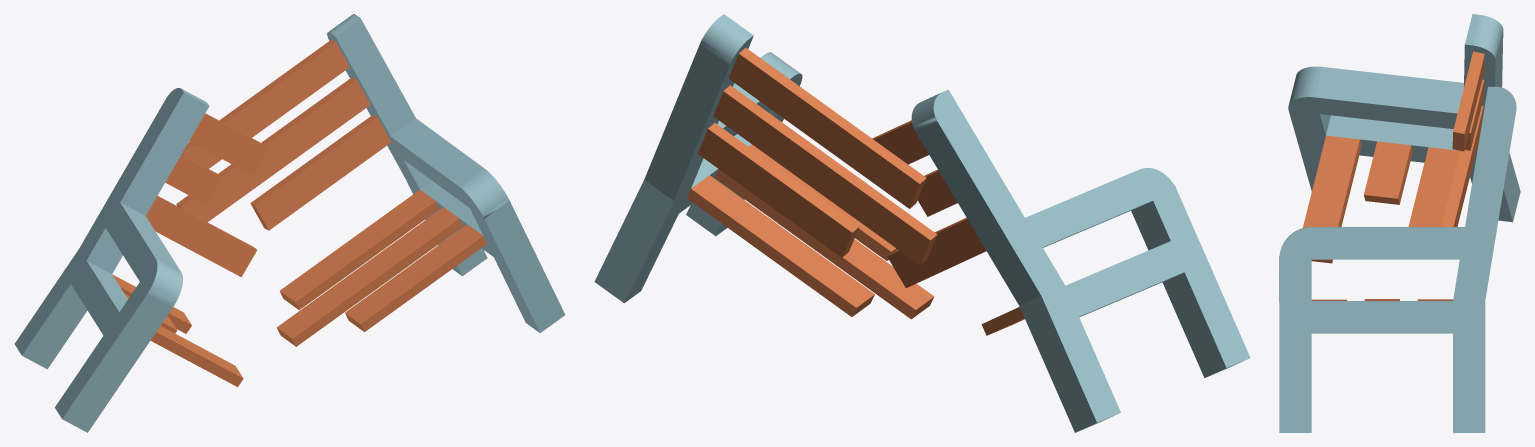
The model's file is benchDamaged.obj.
3 renders of one model, left to right at view 1: azimuth 30°, elevation 25°; view 2: azimuth 150°, elevation 25°; view 3: azimuth 270°, elevation 25°, orthographic. The views are drawn at different scales.
Visible parts, largest first — view 1: benchBroken %8angles; view 2: benchBroken %8angles; view 3: benchBroken %8angles.
Boxes of the visible parts, x1,y1,x2,y2 form: benchBroken %8angles: (14,14,565,432); benchBroken %8angles: (594,14,1250,432); benchBroken %8angles: (1279,14,1520,432).
Size of the model in its own units: 0.9902 by 0.5319 by 0.3829.
